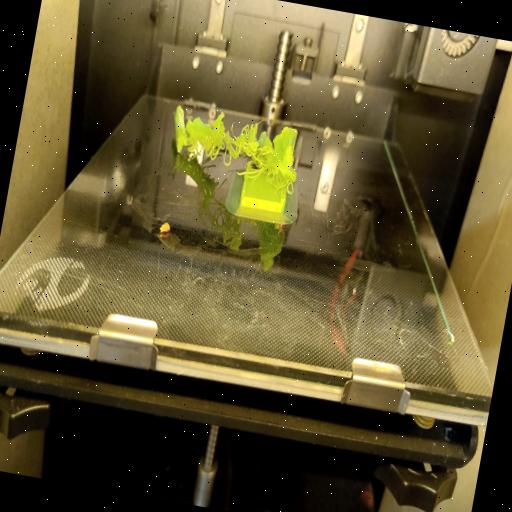spaghetti: (176, 112, 314, 198)
